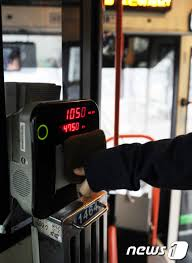terminal: (6, 99, 109, 215)
